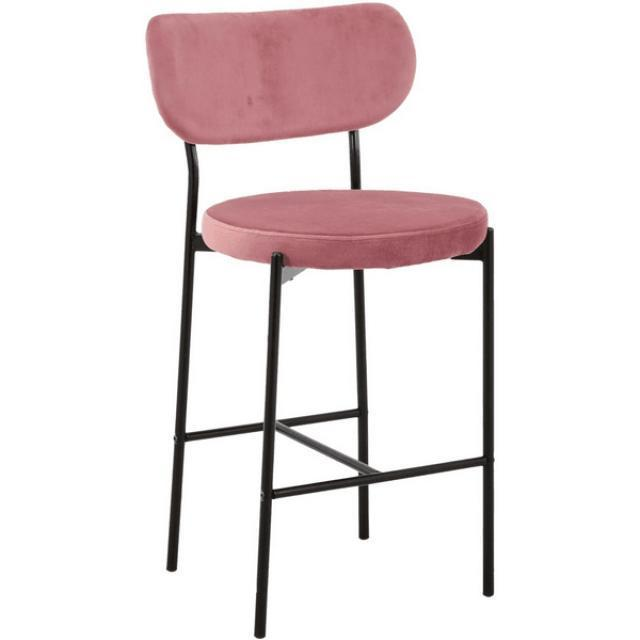chair: (140, 0, 498, 640), (144, 0, 493, 268)
